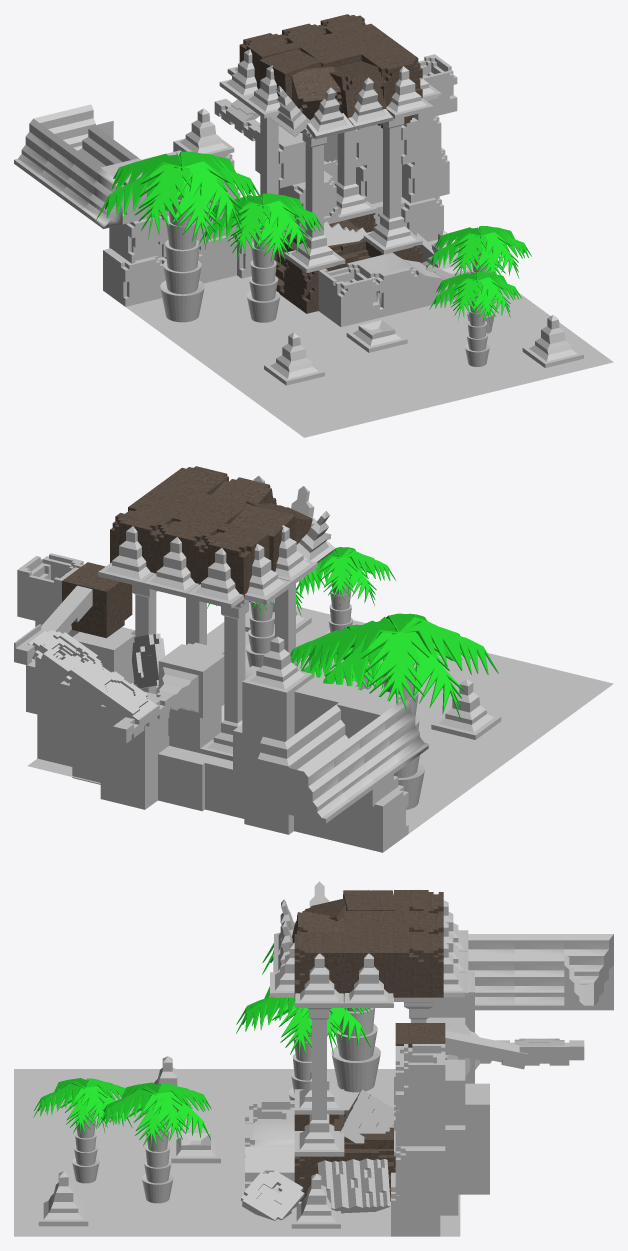
File: Level_3.fbx
The picture shows the model from 3 angles, top to bottom: view 1: azimuth 30°, elevation 25°; view 2: azimuth 150°, elevation 25°; view 3: azimuth 270°, elevation 25°; orthographic projection. The views are drawn at different scales.
Visible parts, largest first — view 1: LeavesGround, Trunk.001, Cube1.001, Cube2.001, Cube2.025, Trunk.004, Cube2.010, Leaves.020, Cube2.017, Cube1.030, Leaves.023, Column.009 (+56 smaller); view 2: LeavesGround, Platform1.002, Cube2.001, Cube1.010, ArkeHalf.064, Cube1.002, Leaves.021, Cube1.008, Cube2.008, Cube2.006, Cube2.018, Cube2.016 (+58 smaller); view 3: LeavesGround, Stairs1.004, Cube1.002, Cube1.007, ArkeHalf.064, Trunk.001, ArkeHalf.058, Cube2.017, ArkeHalf.057, Cube1.030, Cube1.004, Cube2.009 (+55 smaller).
Boxes of the visible parts, bbox=[...] form: LeavesGround: bbox=[126, 239, 613, 437]; Trunk.001: bbox=[160, 187, 204, 322]; Cube1.001: bbox=[318, 261, 379, 327]; Cube2.001: bbox=[103, 248, 164, 306]; Cube2.025: bbox=[358, 252, 418, 317]; Trunk.004: bbox=[246, 220, 280, 322]; Cube2.010: bbox=[109, 215, 168, 263]; Leaves.020: bbox=[135, 164, 191, 241]; Cube2.017: bbox=[402, 147, 449, 203]; Cube1.030: bbox=[361, 45, 422, 106]; Leaves.023: bbox=[177, 161, 242, 234]; Column.009: bbox=[383, 124, 401, 218]; LeavesGround: bbox=[27, 603, 613, 833]; Platform1.002: bbox=[28, 630, 157, 723]; Cube2.001: bbox=[338, 785, 408, 852]; Cube1.010: bbox=[62, 562, 132, 638]; ArkeHalf.064: bbox=[237, 755, 303, 817]; Cube1.002: bbox=[17, 553, 83, 622]; Leaves.021: bbox=[360, 631, 429, 710]; Cube1.008: bbox=[199, 523, 269, 598]; Cube2.008: bbox=[100, 752, 157, 809]; Cube2.006: bbox=[158, 745, 213, 811]; Cube2.018: bbox=[242, 686, 294, 741]; Cube2.016: bbox=[100, 691, 169, 763]; LeavesGround: bbox=[14, 1069, 460, 1236]; Stairs1.004: bbox=[317, 1158, 390, 1213]; Cube1.002: bbox=[395, 1044, 445, 1109]; Cube1.007: bbox=[394, 932, 443, 997]; ArkeHalf.064: bbox=[564, 934, 613, 1010]; Trunk.001: bbox=[331, 1008, 380, 1092]; ArkeHalf.058: bbox=[514, 954, 564, 1010]; Cube2.017: bbox=[395, 1146, 445, 1195]; ArkeHalf.057: bbox=[468, 954, 514, 1010]; Cube1.030: bbox=[294, 932, 344, 996]; Cube1.004: bbox=[344, 932, 393, 997]; Cube2.009: bbox=[391, 1172, 440, 1236].
Bounding box in the file's own units: 1873 × 1171 × 2420.
